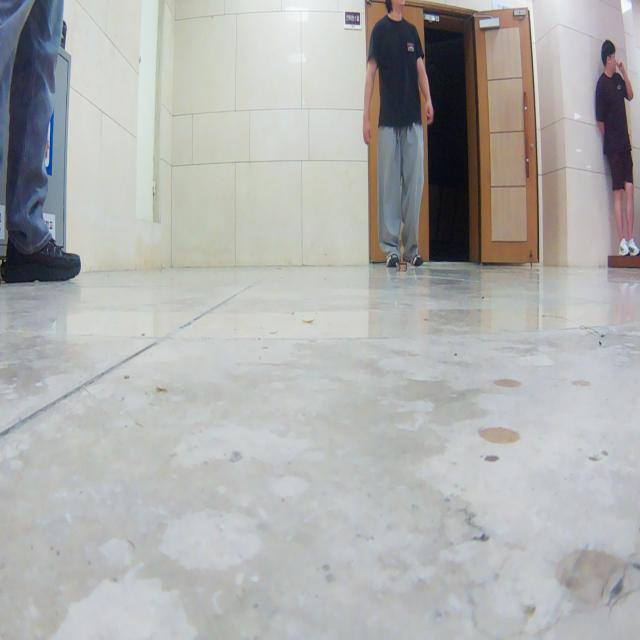target: (396, 243, 408, 273)
